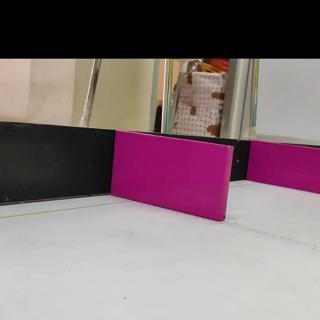xparking: (116, 146, 226, 216), (252, 149, 320, 189)
